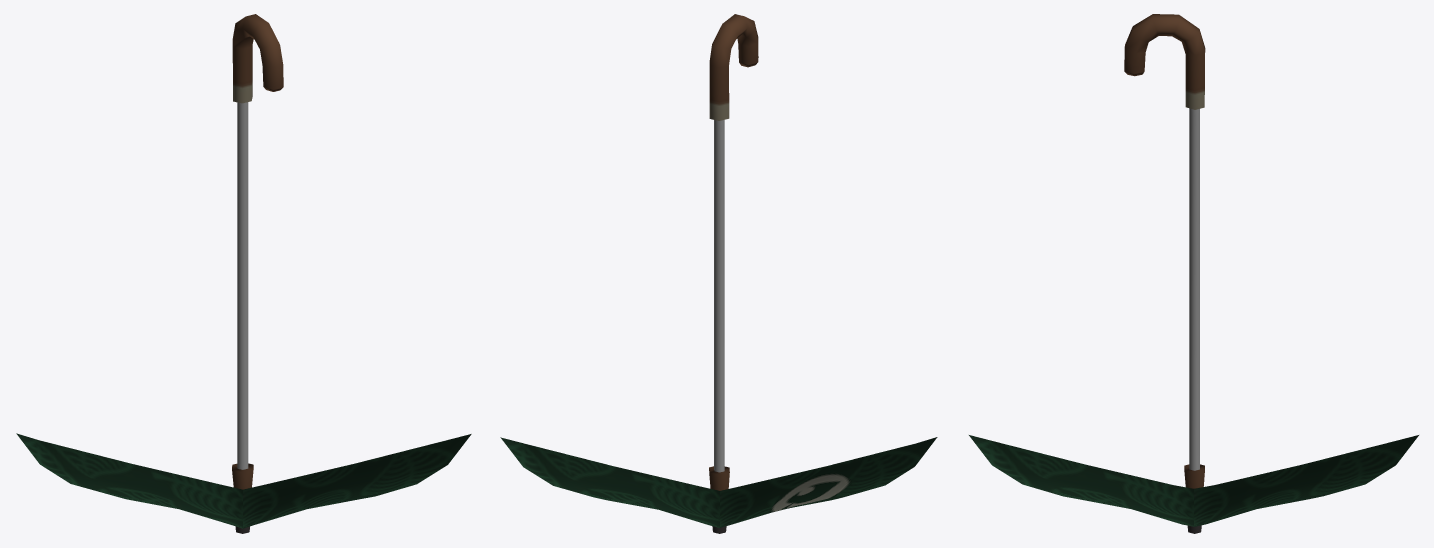
Rendered from UmbrellaRco0.glb.
3 renders of one model, left to right at view 1: azimuth 30°, elevation 25°; view 2: azimuth 150°, elevation 25°; view 3: azimuth 270°, elevation 25°, orthographic. The views are drawn at different scales.
Visible parts, largest first — view 1: Logo4__mUmbrella; view 2: Logo4__mUmbrella; view 3: Logo4__mUmbrella.
Part boxes in pixels (left/top/right/bottom): Logo4__mUmbrella: left=16, top=14, right=471, bottom=533; Logo4__mUmbrella: left=500, top=14, right=937, bottom=533; Logo4__mUmbrella: left=969, top=14, right=1418, bottom=533.
Size of the model in its own units: 15.33 by 16.85 by 13.39.
Materials: 1 (1 with a texture image).
